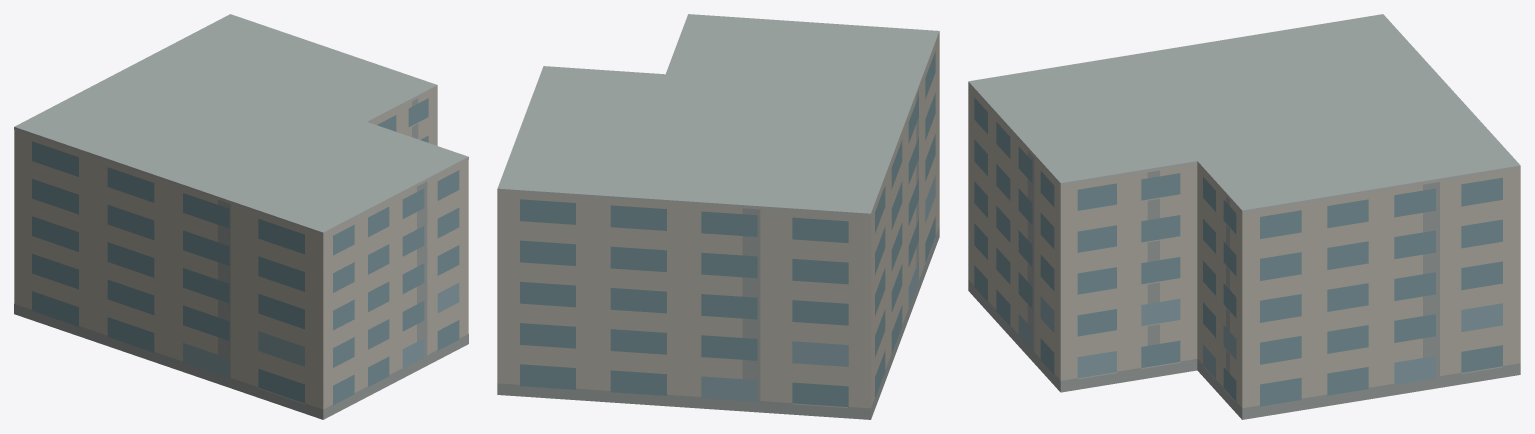
File: residential-62853744-385a-42f1-8f4f-cd2ec5a512e6.glb
3 renders of one model, left to right at view 1: azimuth 30°, elevation 25°; view 2: azimuth 150°, elevation 25°; view 3: azimuth 270°, elevation 25°, orthographic. The views are drawn at different scales.
Visible parts, largest first — view 1: residential-62853744-385a-42f1-8f4f-cd2ec5a512e6.tmp; view 2: residential-62853744-385a-42f1-8f4f-cd2ec5a512e6.tmp; view 3: residential-62853744-385a-42f1-8f4f-cd2ec5a512e6.tmp.
Part boxes in pixels (bbox=[...]): residential-62853744-385a-42f1-8f4f-cd2ec5a512e6.tmp: bbox=[14, 14, 468, 419]; residential-62853744-385a-42f1-8f4f-cd2ec5a512e6.tmp: bbox=[497, 14, 939, 419]; residential-62853744-385a-42f1-8f4f-cd2ec5a512e6.tmp: bbox=[968, 14, 1520, 419].
Bounding box in the file's own units: 30.72 × 15.25 × 36.48.
